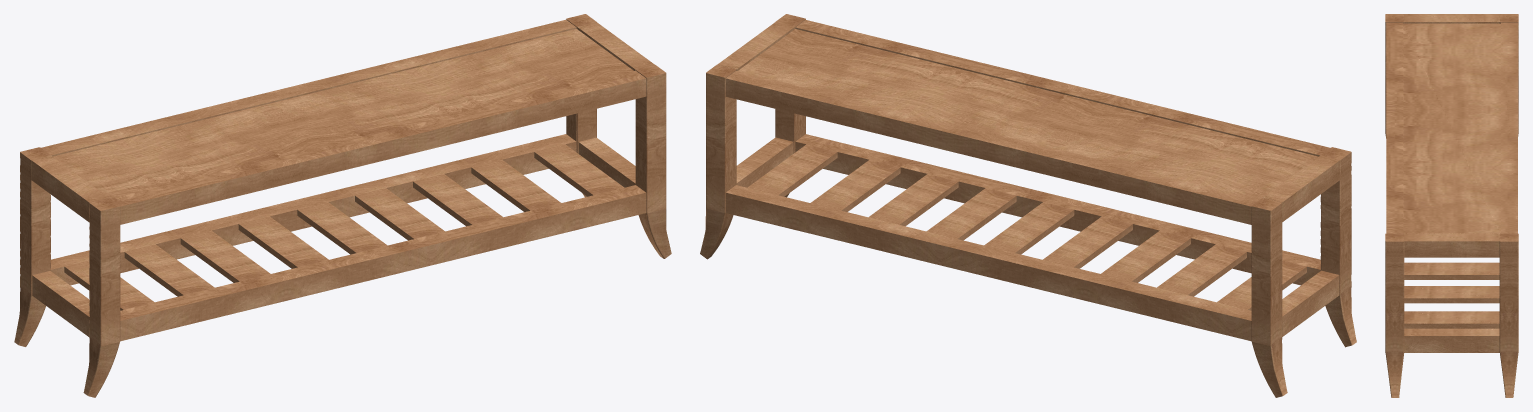
File: bench_ottoman.glb
3 views of the same model, side by side, from view 1: azimuth 30°, elevation 25°; view 2: azimuth 150°, elevation 25°; view 3: azimuth 270°, elevation 25° (orthographic). The views are drawn at different scales.
Visible parts, largest first — view 1: Swept Blend [2951]__0; view 2: Swept Blend [2951]__0; view 3: Swept Blend [2951]__0.
Part boxes in pixels (x1,y1,x2,y2): Swept Blend [2951]__0: [14, 14, 671, 397]; Swept Blend [2951]__0: [700, 14, 1356, 397]; Swept Blend [2951]__0: [1385, 14, 1518, 397].
Bounding box in the file's own units: 1.46 × 0.452 × 0.3499.
Materials: 1 (1 with a texture image).
